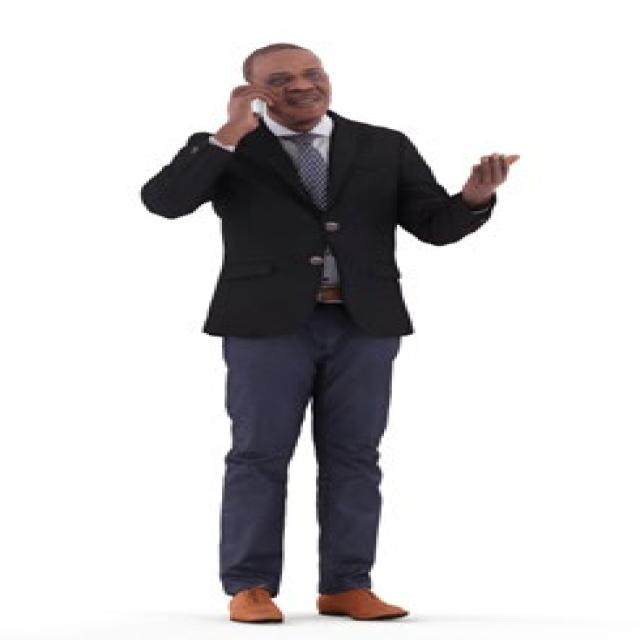standing: (132, 41, 526, 625)
